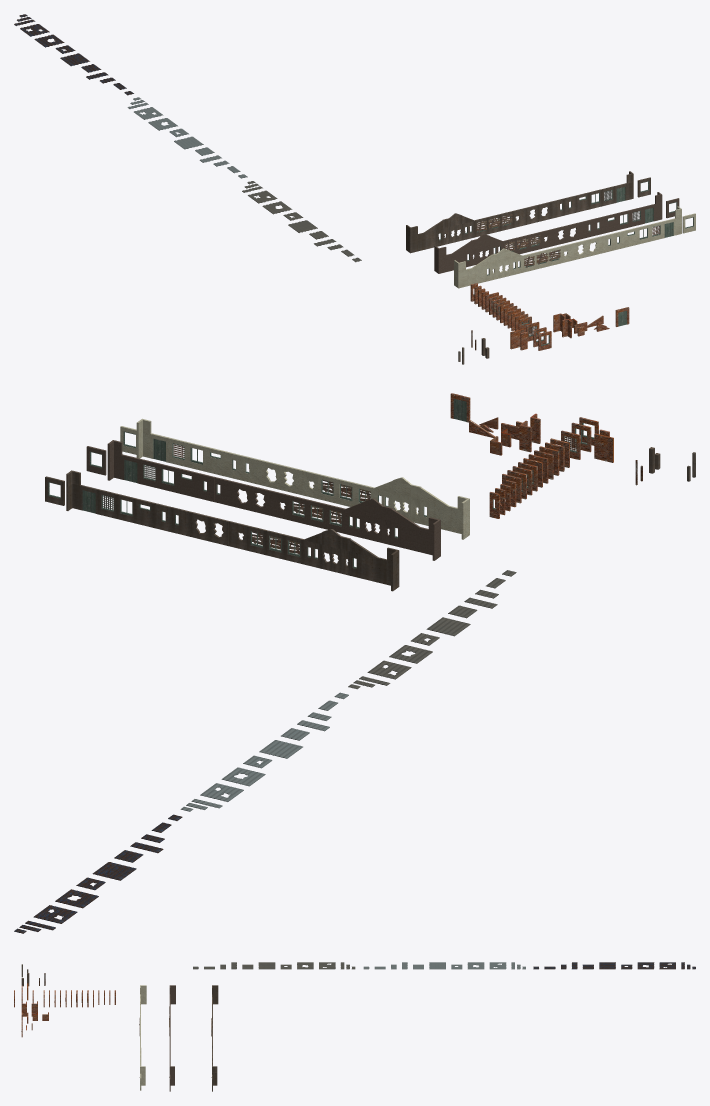
File: buidlings2.fbx
3 views of the same model, one above another, from view 1: azimuth 30°, elevation 25°; view 2: azimuth 150°, elevation 25°; view 3: azimuth 270°, elevation 25° (orthographic). The views are drawn at different scales.
Bounding box in the file's own units: 5051 × 425 × 12447.
